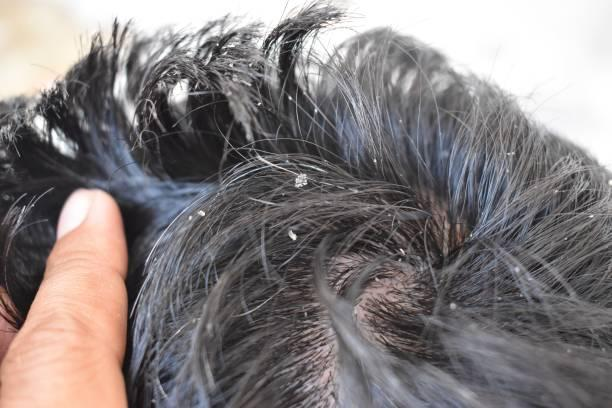dandruff: (278, 217, 304, 249), (288, 168, 309, 192), (508, 259, 528, 278), (390, 244, 413, 259), (369, 269, 383, 286), (445, 299, 459, 314), (192, 208, 206, 223), (282, 88, 295, 103), (311, 108, 330, 118), (365, 157, 386, 165), (502, 146, 514, 160), (296, 306, 312, 316)
